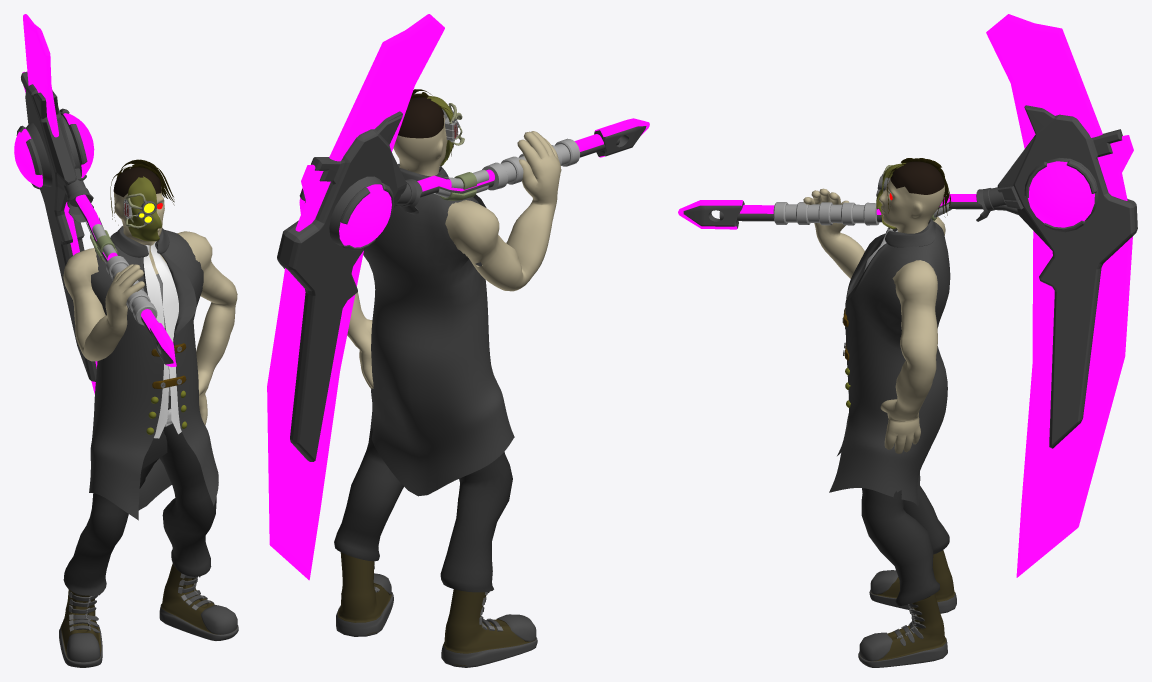
File: FnFighter.glb
The picture shows the model from 3 angles, left to right: view 1: azimuth 30°, elevation 25°; view 2: azimuth 150°, elevation 25°; view 3: azimuth 270°, elevation 25°; orthographic projection. The views are drawn at different scales.
Parts seen in each view (by area): view 1: polySurface259; view 2: polySurface259; view 3: polySurface259.
Part boxes in pixels (x1,y1,x2,y2): polySurface259: (14,14,238,667); polySurface259: (267,14,649,667); polySurface259: (678,14,1137,667).
Bounding box in the file's own units: 74.59 × 227 × 160.
